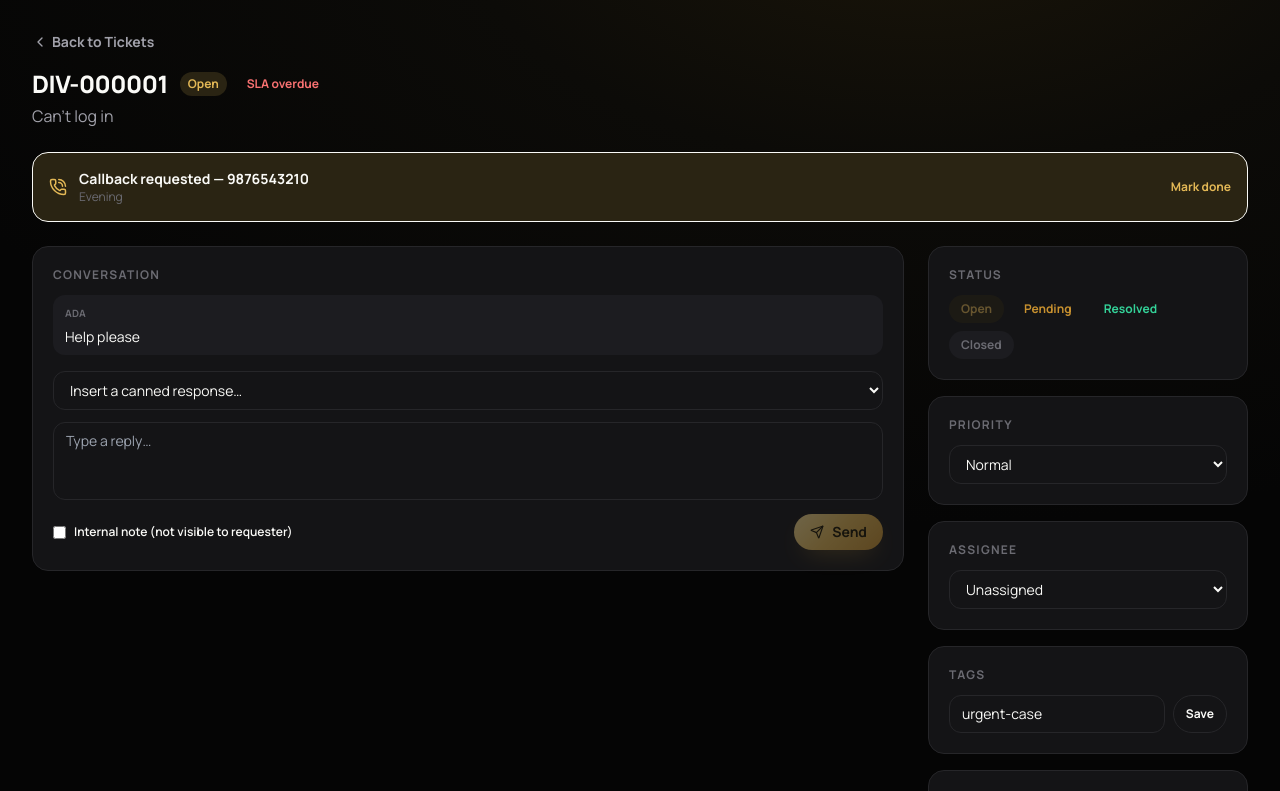
it: TicketDetail (admin) › shows an inline error when assignment is forbidden (missing tickets.assign)
Select "Staffer (staff@example.com)" in the dropdown with test id "admin-ticket-detail-assignee-select": x=1088, y=590 [949,570,1227,609]
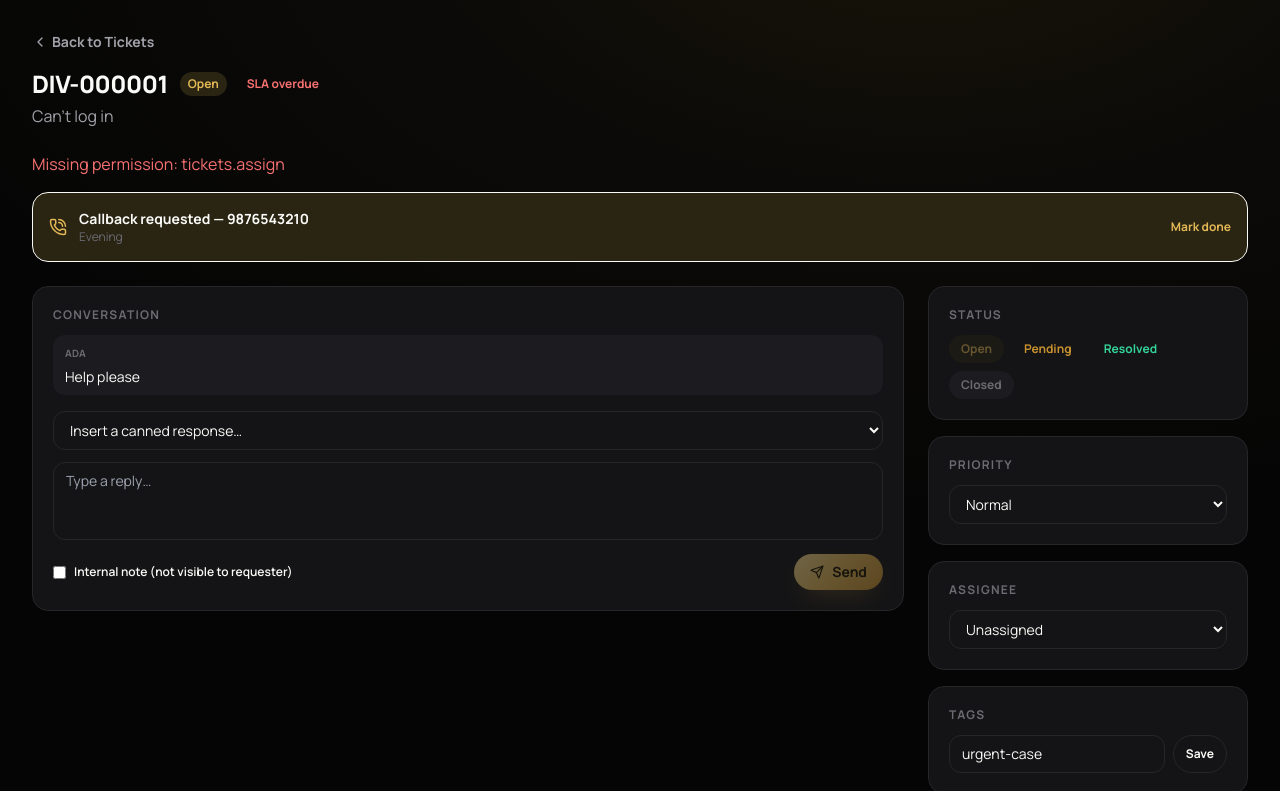
expect the text with test id "admin-ticket-detail-action-error" shows "tickets.assign": met, box [32,153,285,175]
